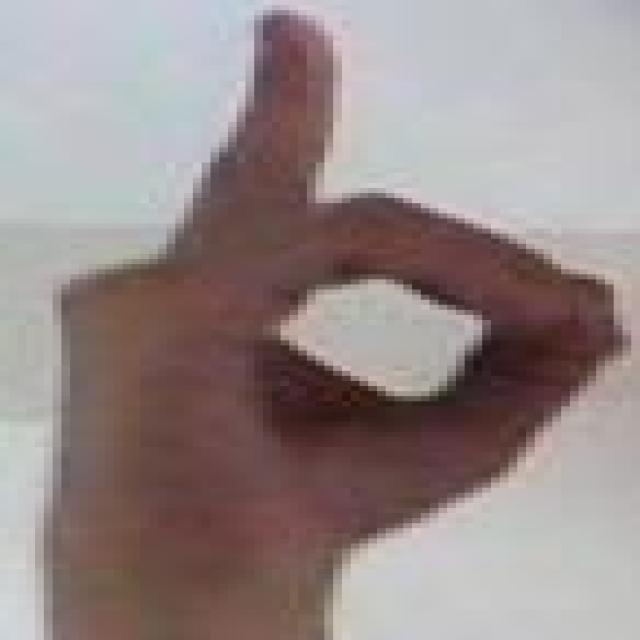D1: (21, 9, 640, 559)
